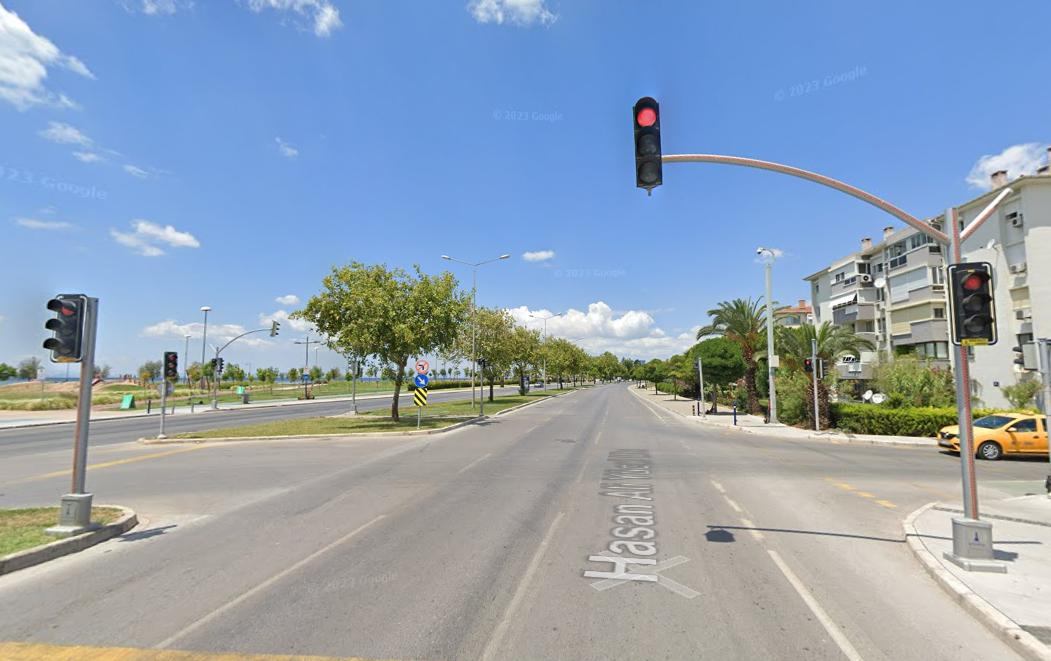redlight: (950, 264, 996, 342), (632, 97, 665, 189), (50, 294, 78, 359)
